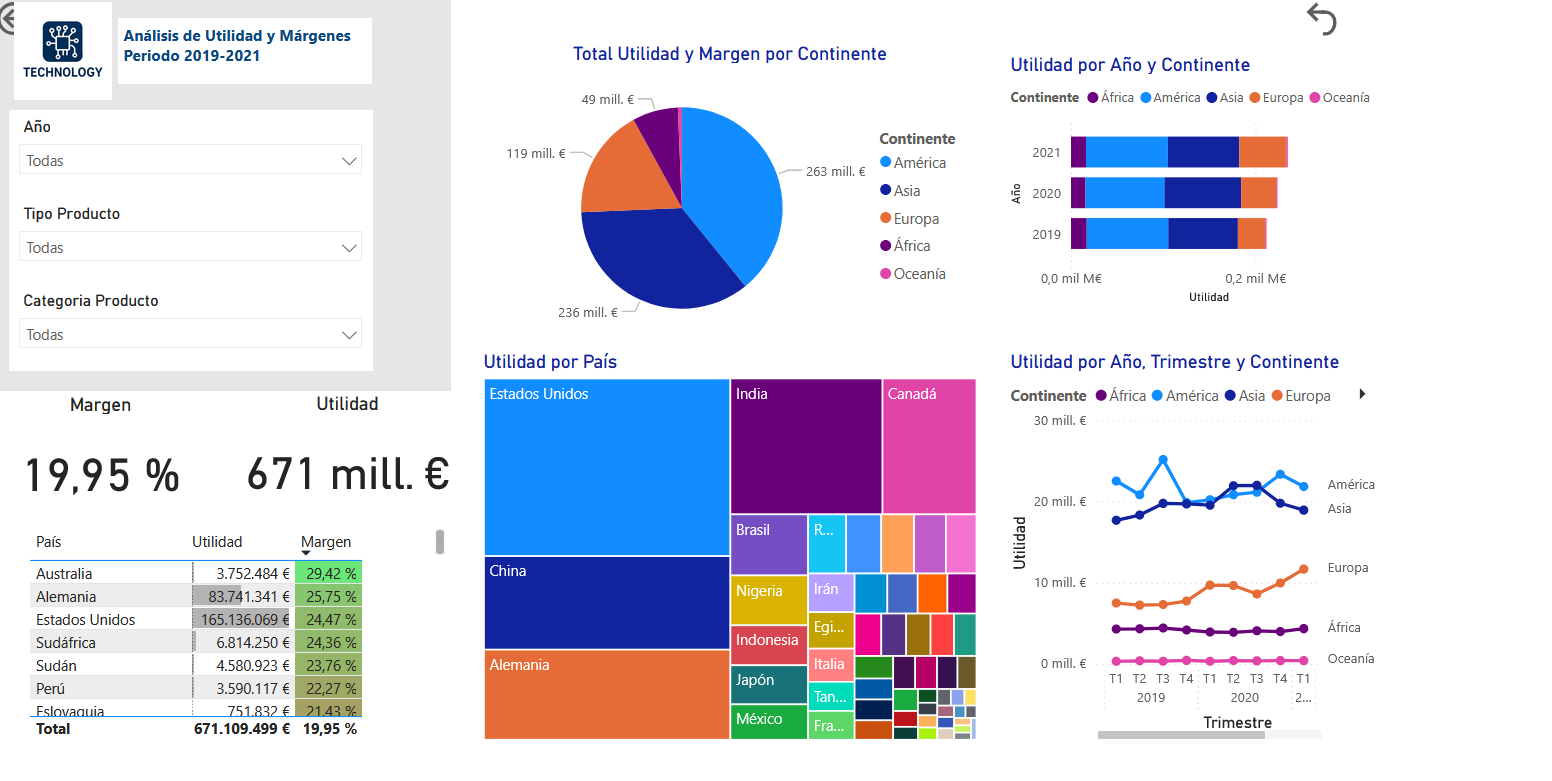

The page's visual inventory and layout, read from the dashboard file:
{"tool":"powerbi","page":{"name":"Informe","canvas":[1280,720],"ordinal":0},"visuals":[{"type":"textbox","box":[0,3.2,417.8,356.2],"z":0},{"type":"actionButton","box":[0,0,100,40],"z":1000},{"type":"tableEx","fields":{"Values":["Tabla Datos.Region","Tabla Datos.Utilidad","Tabla Datos.Margen"]},"box":[29.1,479.3,388.6,200.8],"z":2000},{"type":"card","title":"Utilidad","fields":{"Values":["Tabla Datos.Utilidad"]},"box":[197.5,359.5,250,118.2],"z":3000},{"type":"card","title":"Margen","fields":{"Values":["Tabla Datos.Margen"]},"box":[0,361.1,197.5,118.2],"z":4000},{"type":"barChart","fields":{"Category":["Tabla Datos.Año"],"Y":["Tabla Datos.Utilidad"],"Series":["Tabla Datos.Continente"]},"box":[921.3,50.2,344.9,233.2],"z":5000},{"type":"pieChart","title":"Total Utilidad y Margen por Continente","fields":{"Category":["Tabla Datos.Continente"],"Y":["Tabla Datos.Utilidad"]},"box":[442,40.5,458.2,280.1],"z":6000},{"type":"treemap","fields":{"Group":["Tabla Datos.País"],"Values":["Tabla Datos.Utilidad"]},"box":[442,320.6,458.2,359.5],"z":7000},{"type":"lineChart","fields":{"Category":["Tabla Datos.Año","Tabla Datos.Trimestre"],"Y":["Tabla Datos.Utilidad"],"Series":["Tabla Datos.Continente"]},"box":[921.3,320.6,344.9,359.5],"z":8000},{"type":"slicer","fields":{"Values":["Tabla Datos.Año"]},"box":[14.6,102,331.9,79.3],"z":9000},{"type":"slicer","fields":{"Values":["Tabla Datos.Tipo Producto"]},"box":[14.6,181.4,331.9,79.3],"z":10000},{"type":"slicer","fields":{"Values":["Tabla Productos.Categoria Producto"]},"box":[14.6,260.7,331.9,79.3],"z":11000},{"type":"image","box":[0,0,129.5,98.8],"z":11001},{"type":"textbox","box":[115,19.4,231.5,59.9],"z":11002},{"type":"actionButton","box":[1190.1,0,53.4,40.5],"z":11003}]}

Visuals, with their boxes on the page's 1280x720 design canvas (x1, y1, x2, y2). These are canvas units, not pixel positions in the 1552x781 screenshot, which may show the page scaled, cropped or inside an application window:
textbox: [left=0, top=3, right=418, bottom=359]
actionButton: [left=0, top=0, right=100, bottom=40]
tableEx - Tabla Datos.Region x Tabla Datos.Utilidad: [left=29, top=479, right=418, bottom=680]
"Utilidad" card: [left=198, top=360, right=448, bottom=478]
"Margen" card: [left=0, top=361, right=198, bottom=479]
barChart - Tabla Datos.Año x Tabla Datos.Utilidad: [left=921, top=50, right=1266, bottom=283]
"Total Utilidad y Margen por Continente" pieChart: [left=442, top=40, right=900, bottom=321]
treemap - Tabla Datos.País x Tabla Datos.Utilidad: [left=442, top=321, right=900, bottom=680]
lineChart - Tabla Datos.Año x Tabla Datos.Trimestre: [left=921, top=321, right=1266, bottom=680]
slicer - Tabla Datos.Año: [left=15, top=102, right=346, bottom=181]
slicer - Tabla Datos.Tipo Producto: [left=15, top=181, right=346, bottom=261]
slicer - Tabla Productos.Categoria Producto: [left=15, top=261, right=346, bottom=340]
image: [left=0, top=0, right=130, bottom=99]
textbox: [left=115, top=19, right=346, bottom=79]
actionButton: [left=1190, top=0, right=1244, bottom=40]
